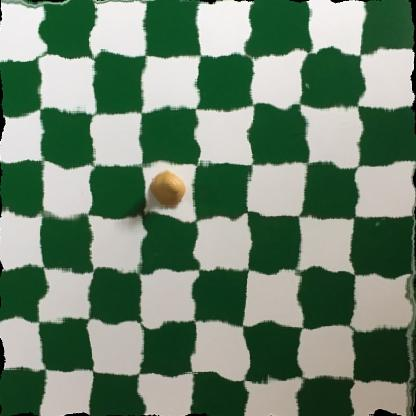white-pawn: (147, 170, 190, 212)
